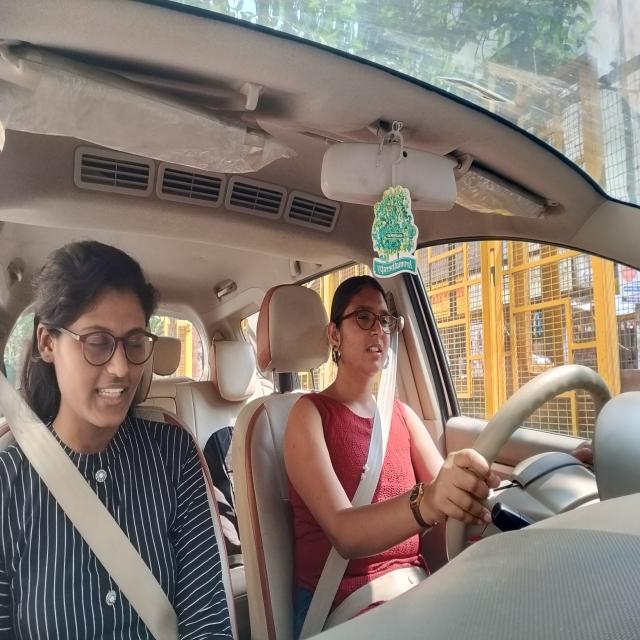person: (34, 238, 157, 426), (326, 276, 395, 380)
